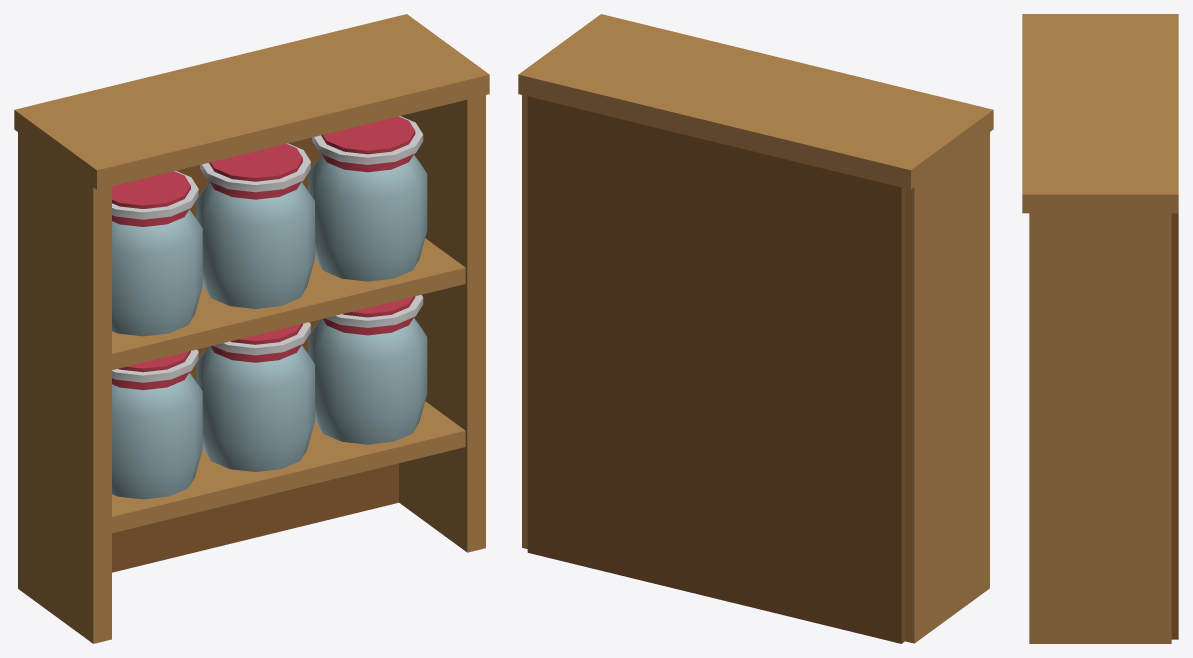
File: jam_shelf.glb
The picture shows the model from 3 angles, left to right: view 1: azimuth 30°, elevation 25°; view 2: azimuth 150°, elevation 25°; view 3: azimuth 270°, elevation 25°; orthographic projection. The views are drawn at different scales.
Visible parts, largest first — view 1: decor-jam_shelf; view 2: decor-jam_shelf; view 3: decor-jam_shelf.
Part boxes in pixels (<box>): decor-jam_shelf: <box>14,14,489,643</box>; decor-jam_shelf: <box>518,14,993,643</box>; decor-jam_shelf: <box>1022,14,1178,643</box>.
Bounding box in the file's own units: 1.26 × 1.46 × 0.4601.
